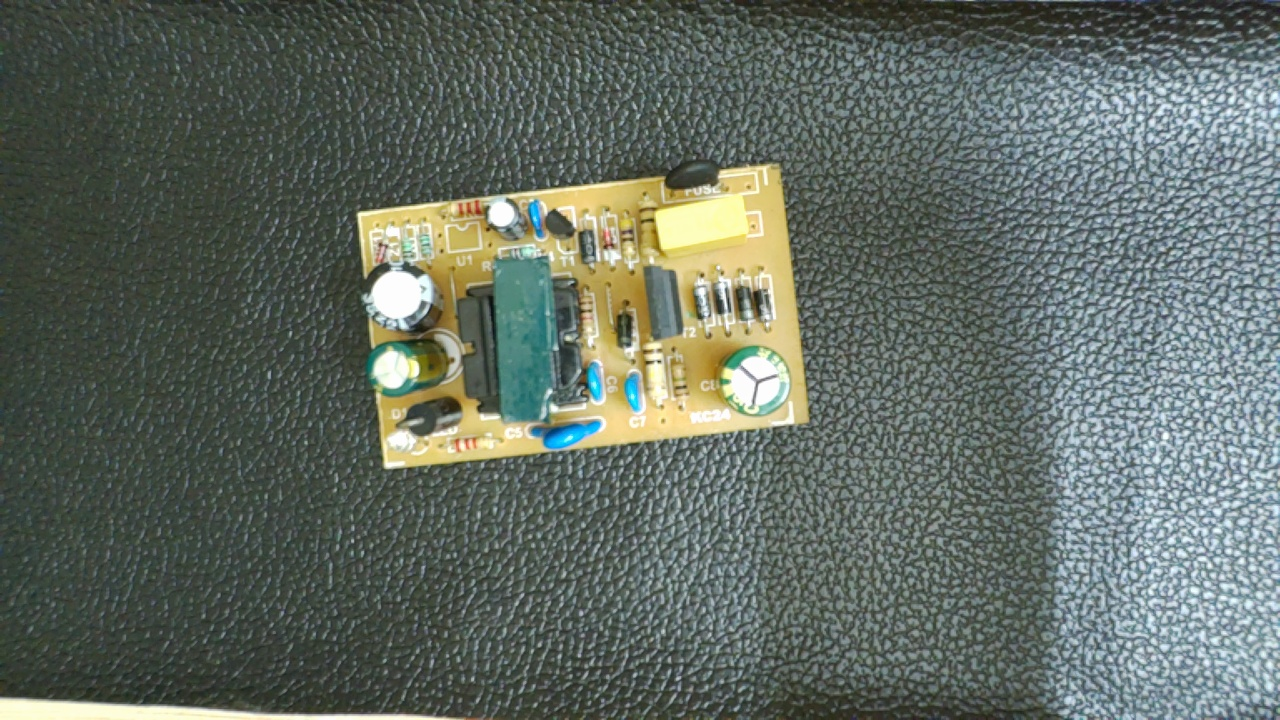fuse: (660, 155, 746, 200)
hv_capacitor: (713, 342, 795, 422)
mov: (524, 411, 611, 452)
